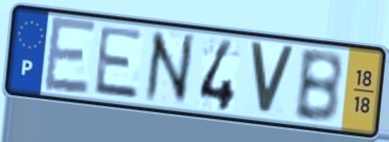4: (196, 36, 238, 113)
B: (291, 49, 345, 126)
E: (41, 14, 99, 97), (91, 23, 146, 102)
N: (142, 28, 196, 106)
V: (247, 38, 298, 119)
